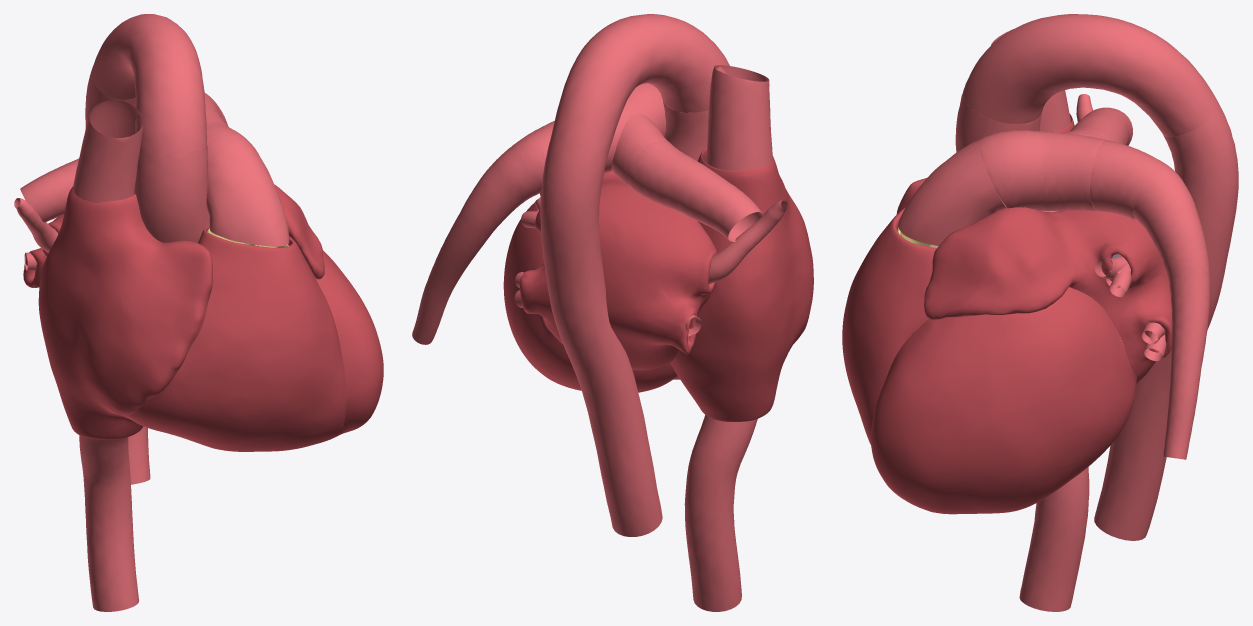
The model's file is heart-v2.glb.
3 views of the same model, side by side, from view 1: azimuth 30°, elevation 25°; view 2: azimuth 150°, elevation 25°; view 3: azimuth 270°, elevation 25° (orthographic). The views are drawn at different scales.
Visible parts, largest first — view 1: myocardium, aorta, pulmonary_arteries, inferior_vena_cava, superior_vena_cava, pulmonary_veins; view 2: myocardium, aorta, pulmonary_arteries, inferior_vena_cava, superior_vena_cava, pulmonary_veins; view 3: myocardium, aorta, pulmonary_arteries, inferior_vena_cava, pulmonary_veins, superior_vena_cava.
Boxes of the visible parts, x1=… form: myocardium: x1=23, y1=184, x2=383, y2=451; aorta: x1=85, y1=14, x2=209, y2=484; pulmonary_arteries: x1=20, y1=93, x2=289, y2=246; inferior_vena_cava: x1=79, y1=413, x2=138, y2=611; superior_vena_cava: x1=73, y1=100, x2=143, y2=202; pulmonary_veins: x1=14, y1=198, x2=58, y2=274; myocardium: x1=503, y1=147, x2=813, y2=421; aorta: x1=540, y1=14, x2=729, y2=536; pulmonary_arteries: x1=412, y1=83, x2=763, y2=344; inferior_vena_cava: x1=684, y1=415, x2=757, y2=611; superior_vena_cava: x1=706, y1=65, x2=772, y2=170; pulmonary_veins: x1=514, y1=197, x2=787, y2=336; myocardium: x1=842, y1=114, x2=1172, y2=514; aorta: x1=955, y1=14, x2=1238, y2=540; pulmonary_arteries: x1=898, y1=107, x2=1210, y2=459; inferior_vena_cava: x1=1019, y1=467, x2=1089, y2=611; pulmonary_veins: x1=1076, y1=94, x2=1166, y2=361; superior_vena_cava: x1=991, y1=29, x2=1070, y2=132.
Size of the model in its own units: 2.39 by 4 by 2.31.
